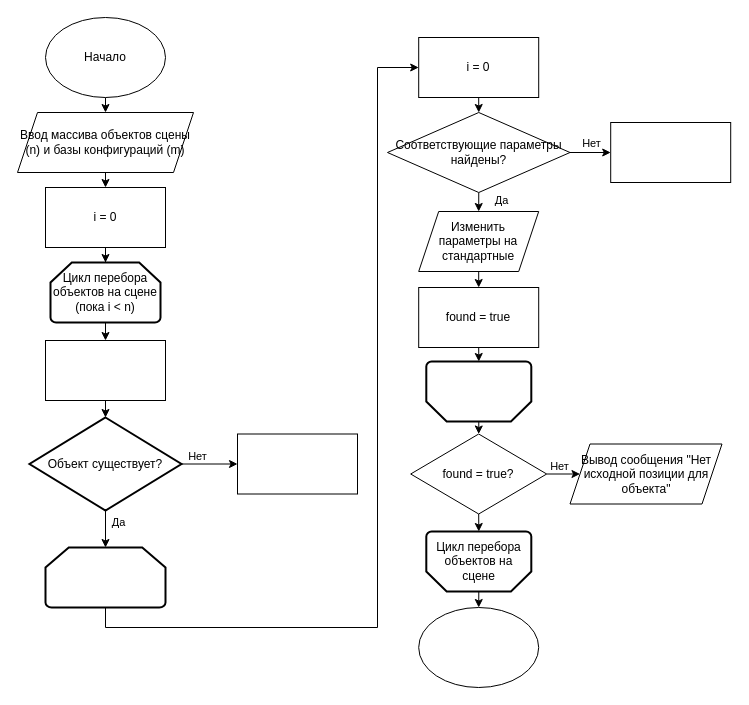
The diagram is 749 pixels wide and 705 high, and some of its shapes have lost their labels. Here are the shapes that lost their labels. From the top down, the centre of each, then its label:
[670,152]: j ++
[105,370]: found = false
[478,391]: Цикл поиска соответствующих параметров объекта
[297,463]: i ++
[105,577]: Цикл поиска соответствующих параметров объекта (пока j < m)
[478,647]: Конец
